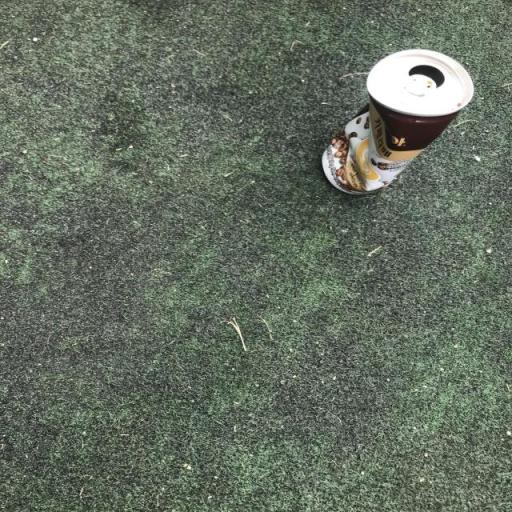metal: (293, 28, 512, 234)
